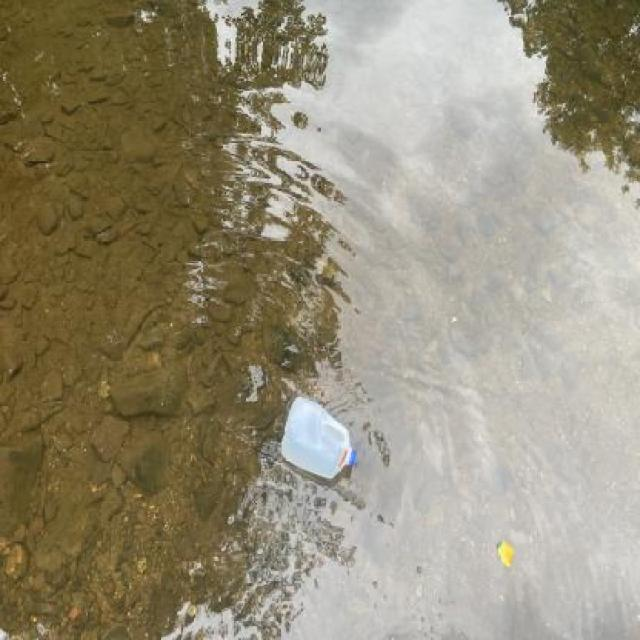Plastic: (270, 392, 364, 488)
